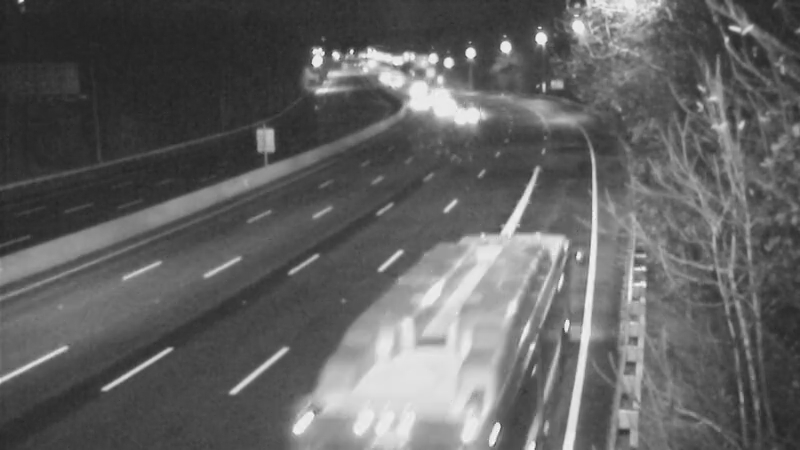vehicle: (384, 285, 494, 395), (395, 63, 445, 113), (413, 71, 463, 121), (396, 80, 446, 130), (418, 86, 468, 136), (440, 91, 490, 141)
